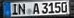character: (18, 3, 26, 14), (32, 3, 40, 14), (11, 3, 18, 15), (41, 2, 48, 14), (48, 2, 55, 14), (54, 2, 61, 14), (60, 1, 67, 13)
